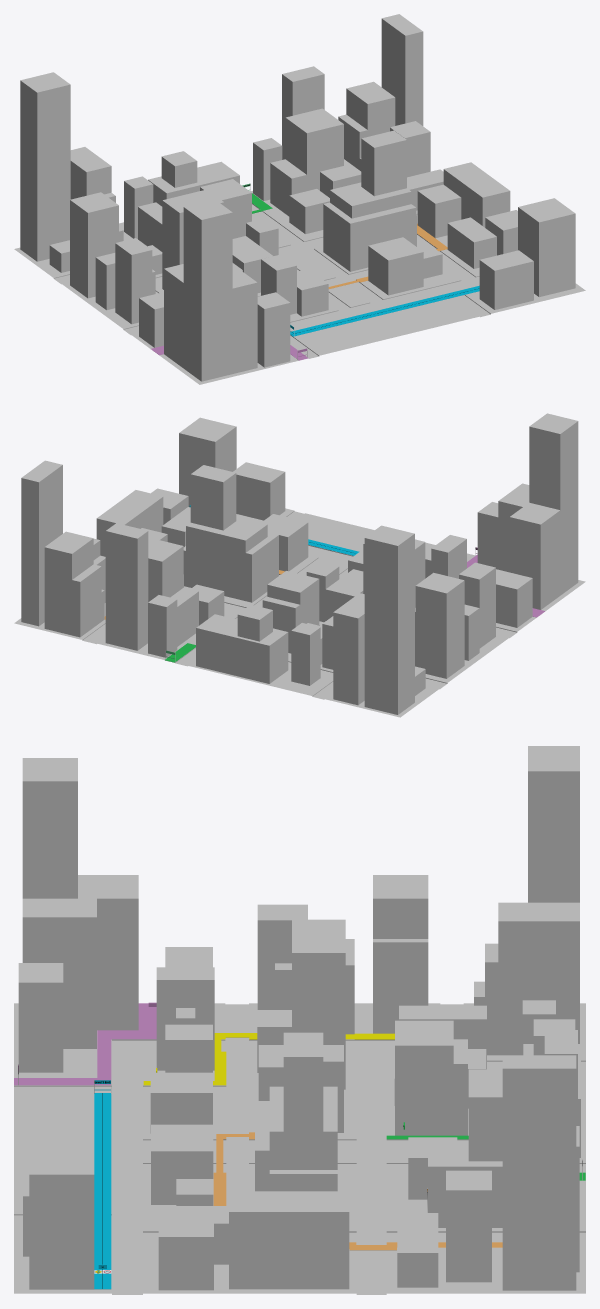
The model's file is tiny8.gltf.
The picture shows the model from 3 angles, top to bottom: view 1: azimuth 30°, elevation 25°; view 2: azimuth 150°, elevation 25°; view 3: azimuth 270°, elevation 25°; orthographic projection. The views are drawn at different scales.
Bounding box in the file's own units: 2 × 0.8425 × 1.66.
